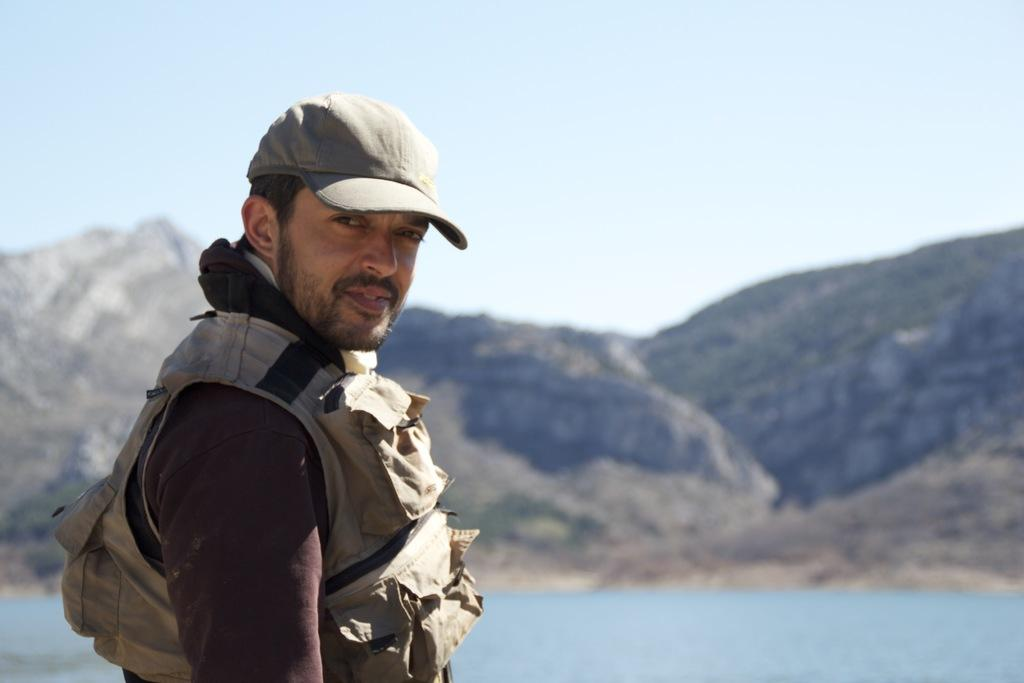Hat: (246, 94, 464, 248)
